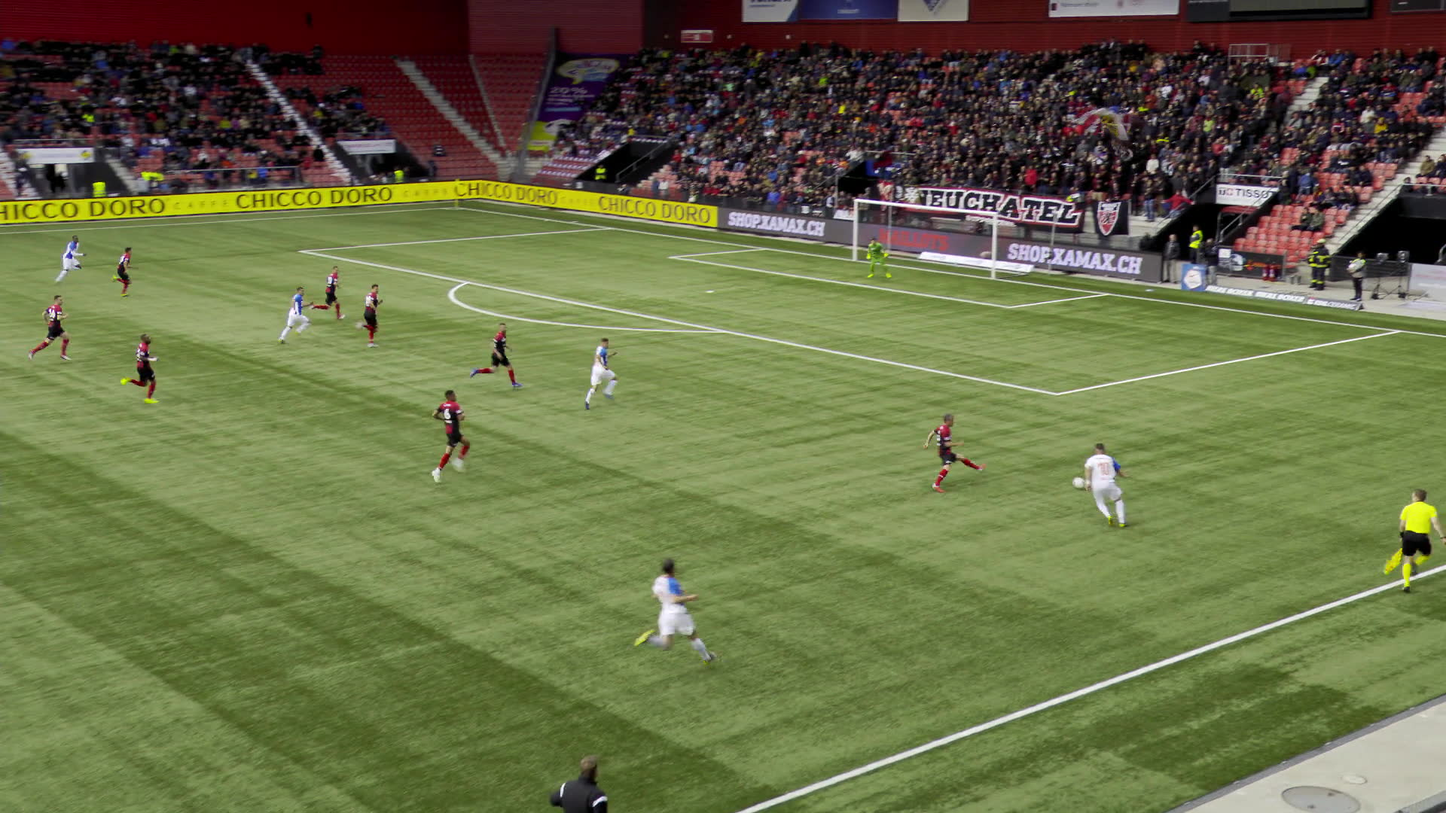ball: (1078, 478, 1091, 490)
player: (639, 559, 703, 677), (918, 410, 983, 491), (423, 388, 481, 477), (1085, 441, 1130, 531), (29, 294, 81, 361), (578, 337, 621, 407), (475, 322, 518, 390), (127, 331, 163, 403), (275, 286, 313, 343), (51, 233, 90, 282), (358, 283, 386, 346), (315, 265, 341, 321), (112, 246, 139, 297), (869, 236, 892, 277)
referee: (1393, 486, 1442, 596)
